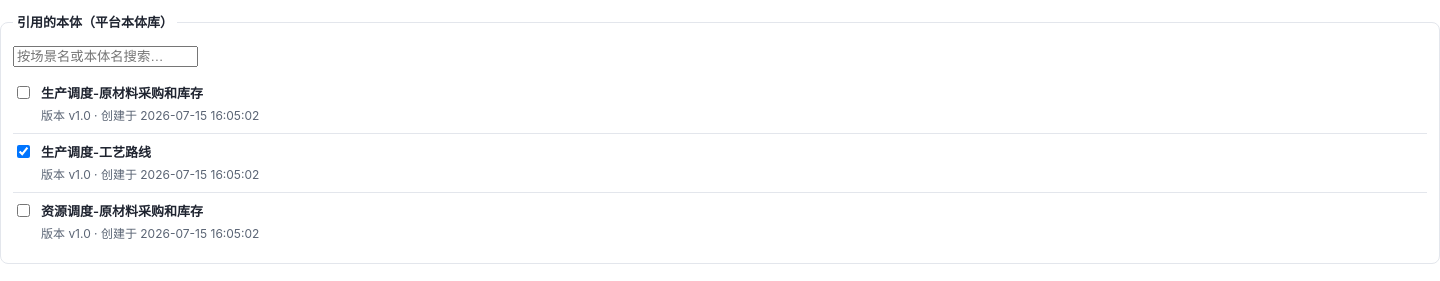
Test: OntologySelector › 搜索按场景名或本体名过滤，且不清空已选集合
This screenshot has width=1440, height=281.
In the search field with placeholder "按场景名或本体名搜索…": (106, 56) [13, 46, 198, 67], type "资源调度"
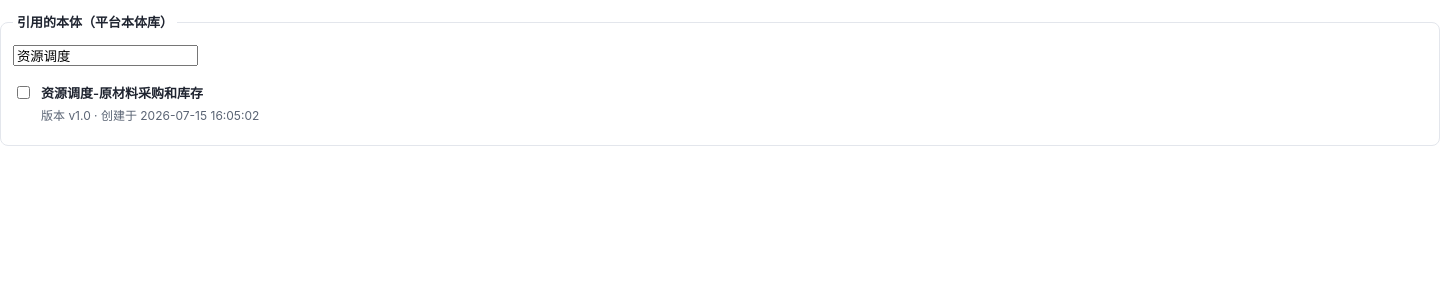
Check: the number of list items is 1, box [17, 85, 259, 123]
